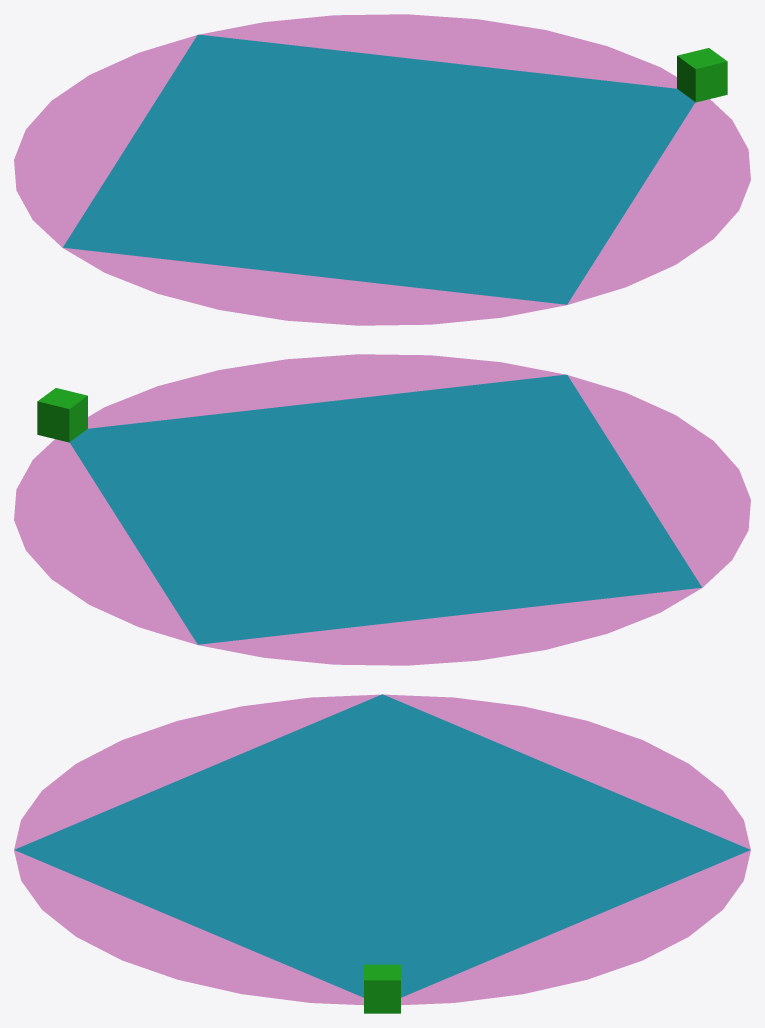
The model's file is curve_interpolation.DAE.
3 renders of one model, top to bottom at view 1: azimuth 30°, elevation 25°; view 2: azimuth 150°, elevation 25°; view 3: azimuth 270°, elevation 25°, orthographic.
Visible parts, largest first — view 1: Plane001, Cylinder001, Cube; view 2: Plane001, Cylinder001, Cube; view 3: Plane001, Cylinder001, Cube.
Boxes of the visible parts, bbox=[...] form: Plane001: bbox=[63, 34, 695, 304]; Cylinder001: bbox=[14, 14, 750, 325]; Cube: bbox=[677, 48, 727, 102]; Plane001: bbox=[69, 374, 701, 644]; Cylinder001: bbox=[14, 354, 750, 665]; Cube: bbox=[37, 388, 87, 442]; Plane001: bbox=[14, 694, 750, 997]; Cylinder001: bbox=[14, 694, 750, 1005]; Cube: bbox=[364, 964, 400, 1013].
Bounding box in the file's own units: 20.5 × 20 × 1.
